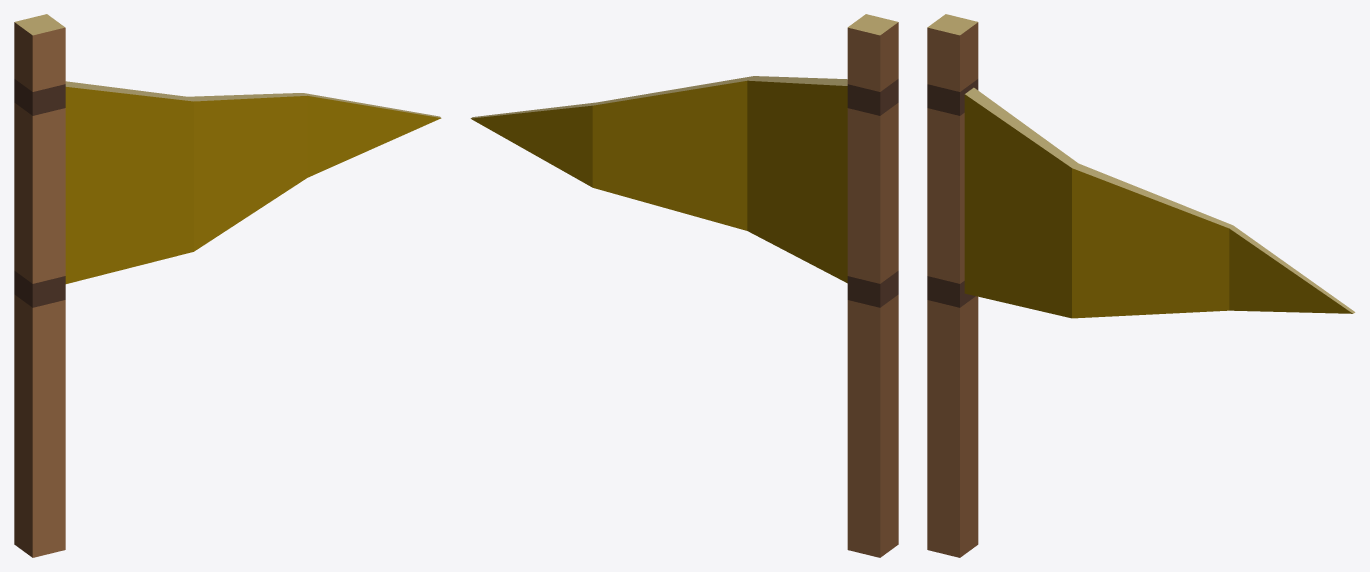
The model's file is TB_D_Prop_Flag_B.FBX.
3 renders of one model, left to right at view 1: azimuth 30°, elevation 25°; view 2: azimuth 150°, elevation 25°; view 3: azimuth 330°, elevation 25°, orthographic.
Parts seen in each view (by area): view 1: TB_D_Prop_Flag_B; view 2: TB_D_Prop_Flag_B; view 3: TB_D_Prop_Flag_B.
Part boxes in pixels (left/top/right/bottom): TB_D_Prop_Flag_B: left=14, top=14, right=441, bottom=557; TB_D_Prop_Flag_B: left=470, top=14, right=898, bottom=557; TB_D_Prop_Flag_B: left=927, top=14, right=1355, bottom=557.
Bounding box in the file's own units: 2.19 × 2.62 × 0.2422.
